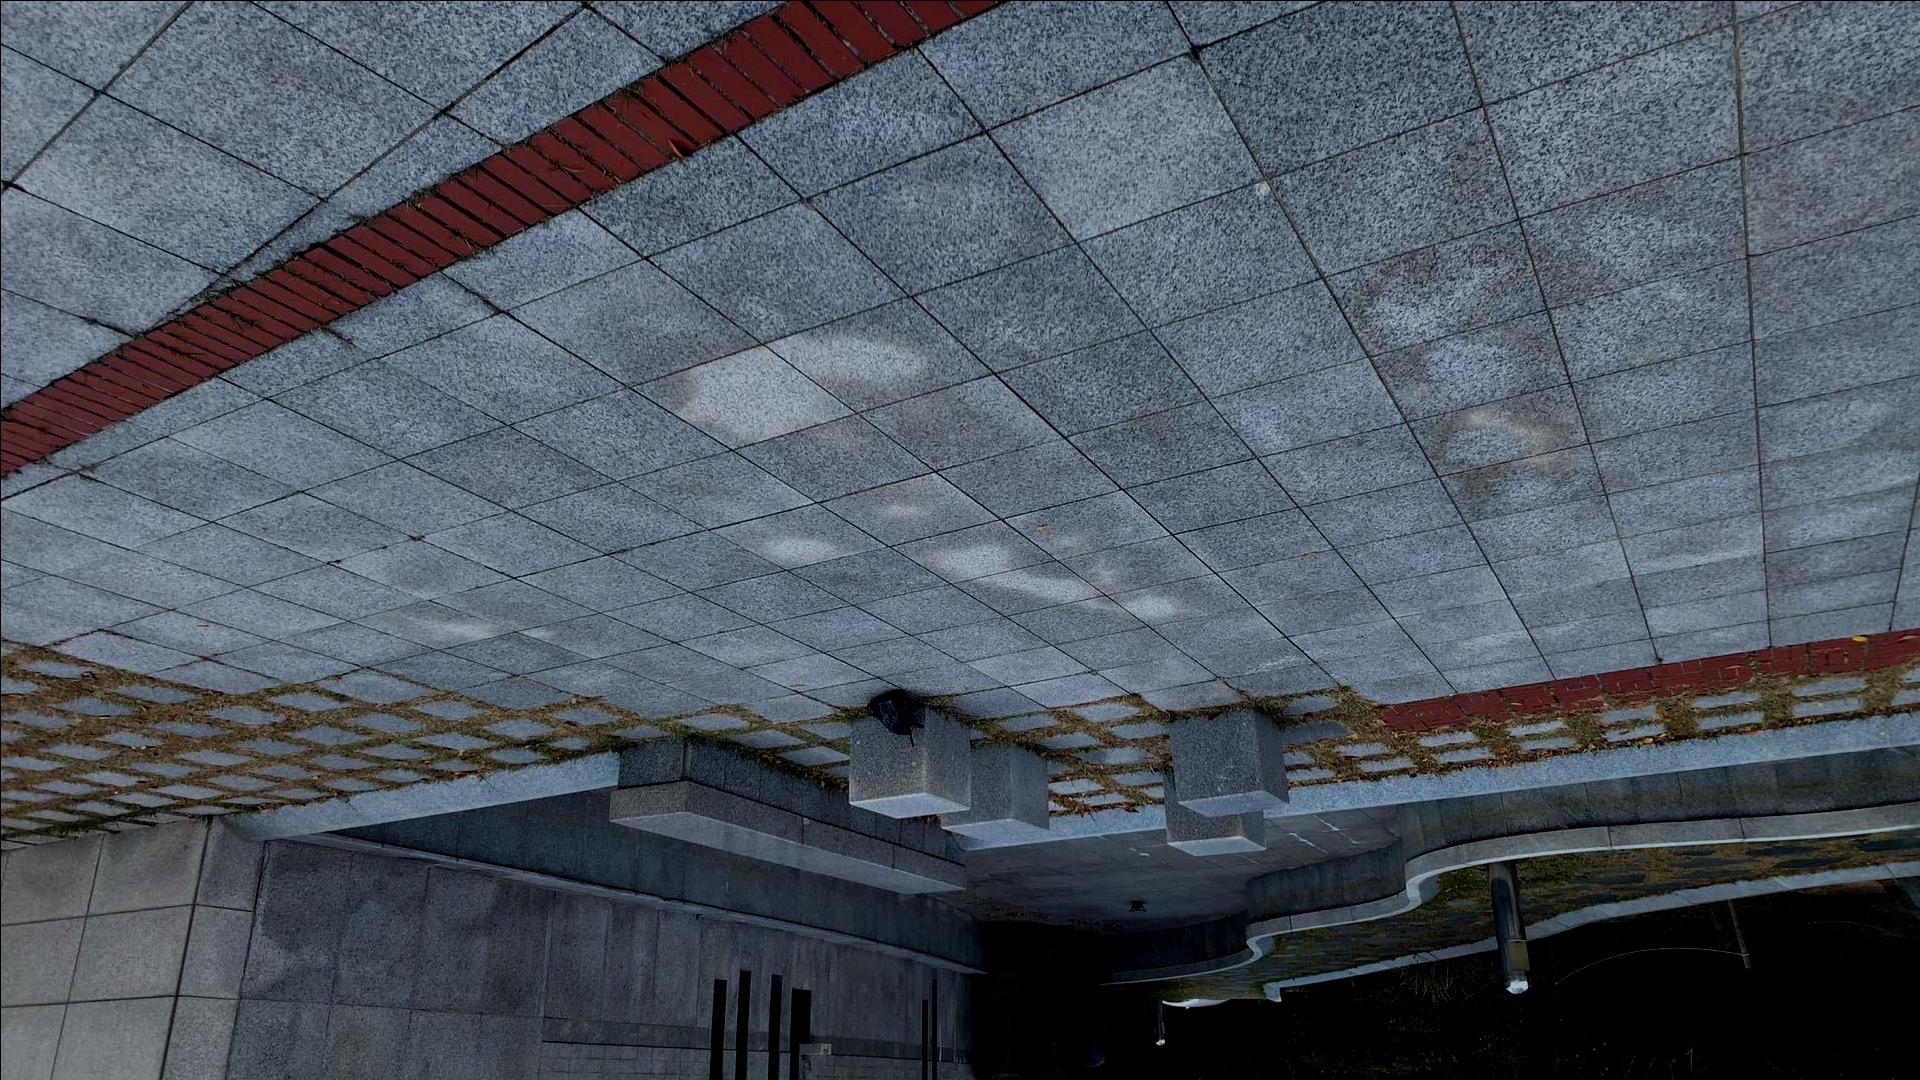black_bag: (861, 684, 928, 750)
